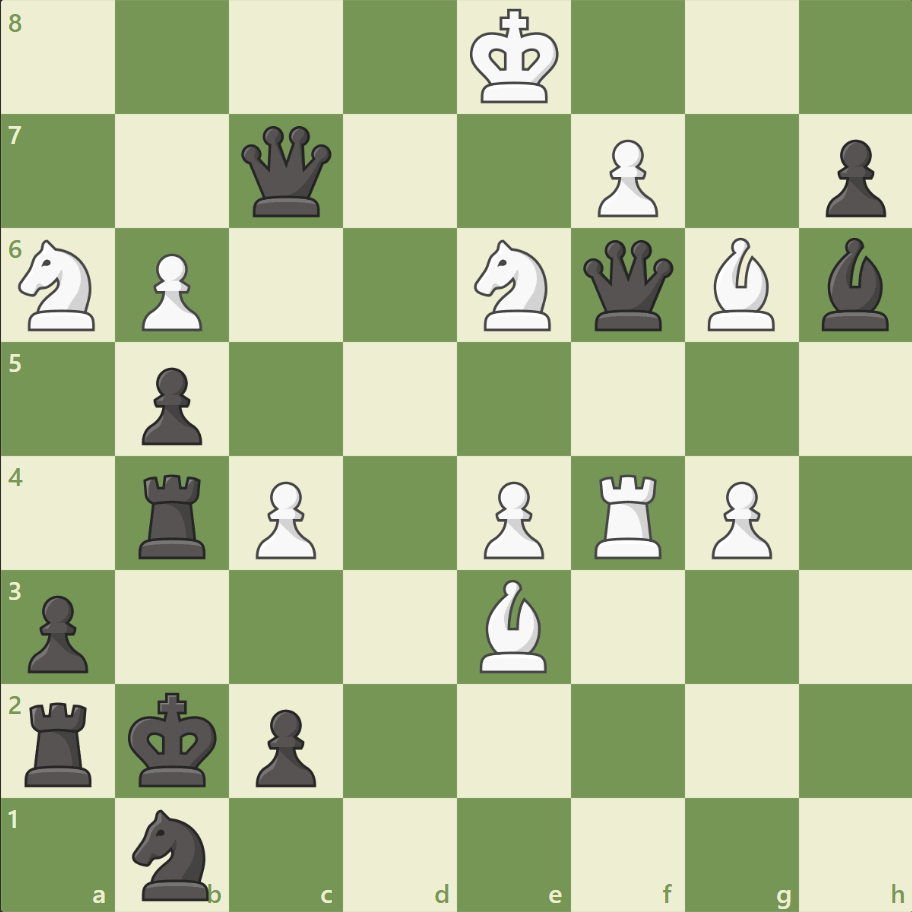B: (698, 233, 782, 336), (471, 574, 555, 676)
K: (465, 4, 565, 112)
N: (11, 234, 108, 337), (465, 234, 562, 337)
P: (133, 246, 208, 337), (247, 473, 322, 564), (474, 473, 549, 564), (701, 473, 776, 564), (588, 132, 662, 223)
R: (587, 466, 670, 563)
b: (812, 233, 896, 336)
k: (124, 685, 224, 793)
n: (124, 802, 222, 904)
p: (133, 359, 208, 450), (20, 586, 95, 677), (247, 700, 322, 791), (815, 132, 889, 223)
q: (237, 122, 336, 222), (578, 236, 677, 335)
r: (19, 693, 102, 790), (133, 466, 215, 563)
